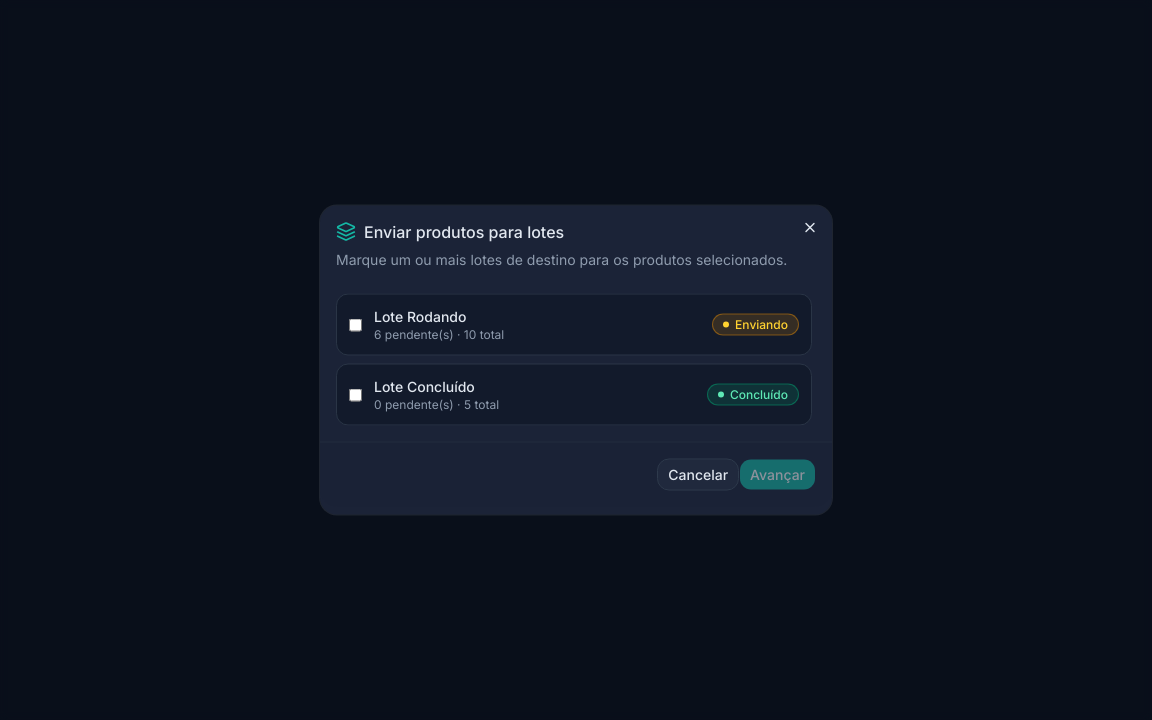
Test: SendToBatchDialog › mostra aviso de reativação no passo 2 apenas para lotes com status DONE
Click the checkbox labelled "Lote Concluído 0 pendente(s) · 5 total Concluído" at (356, 394), box x1=349 y1=388 x2=362 y2=401
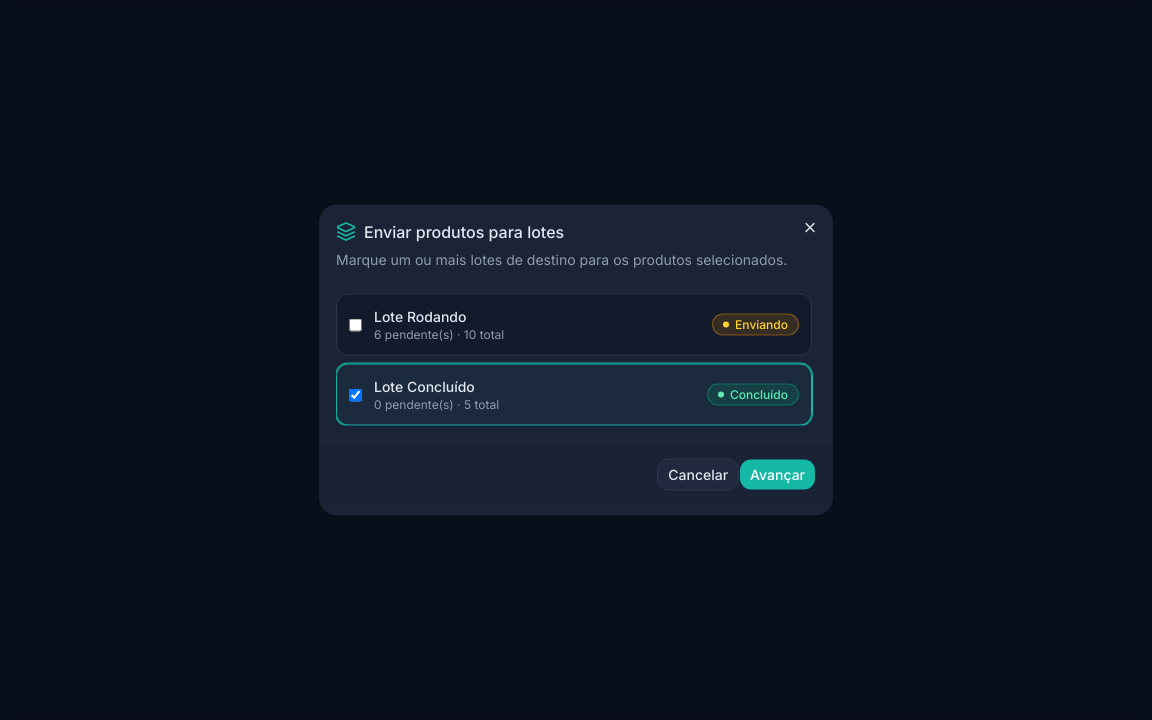
Click the button "Avançar" at (778, 474), box x1=739 y1=458 x2=816 y2=490
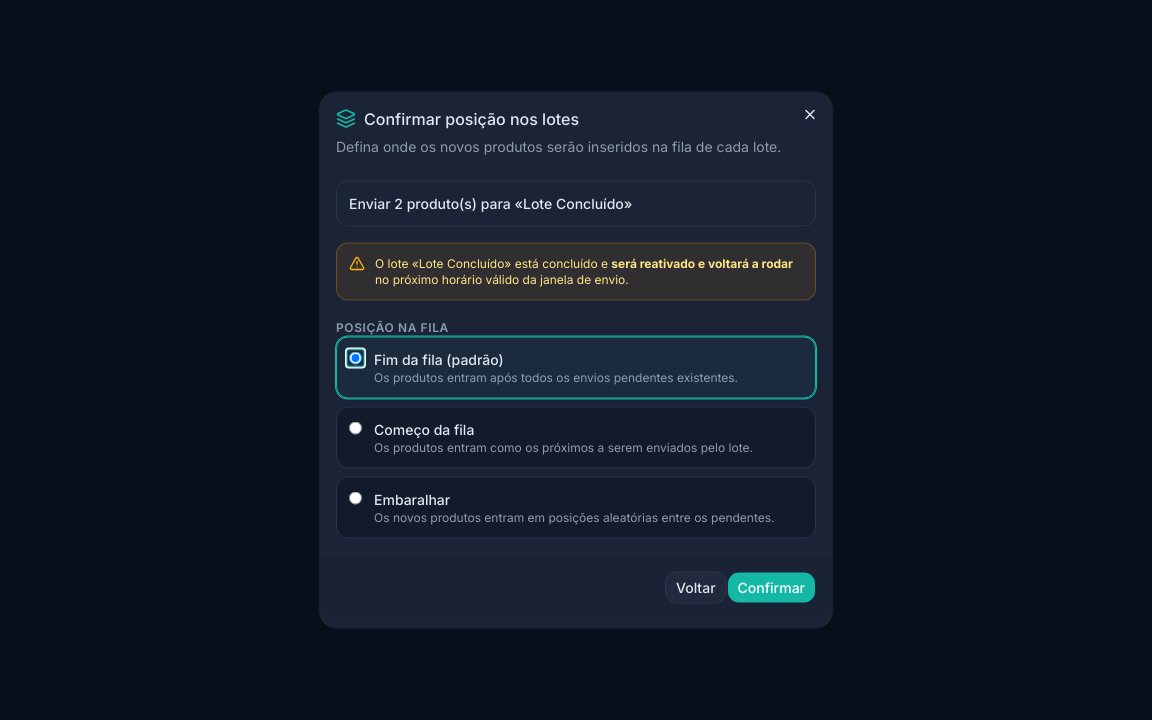
Expected: the text "Enviar 2 produto(s) para «Lote Concluído»" is shown, x1=336 y1=180 x2=816 y2=226
Expected: the text "será reativado e voltará a rodar" is shown, x1=611 y1=256 x2=793 y2=270
